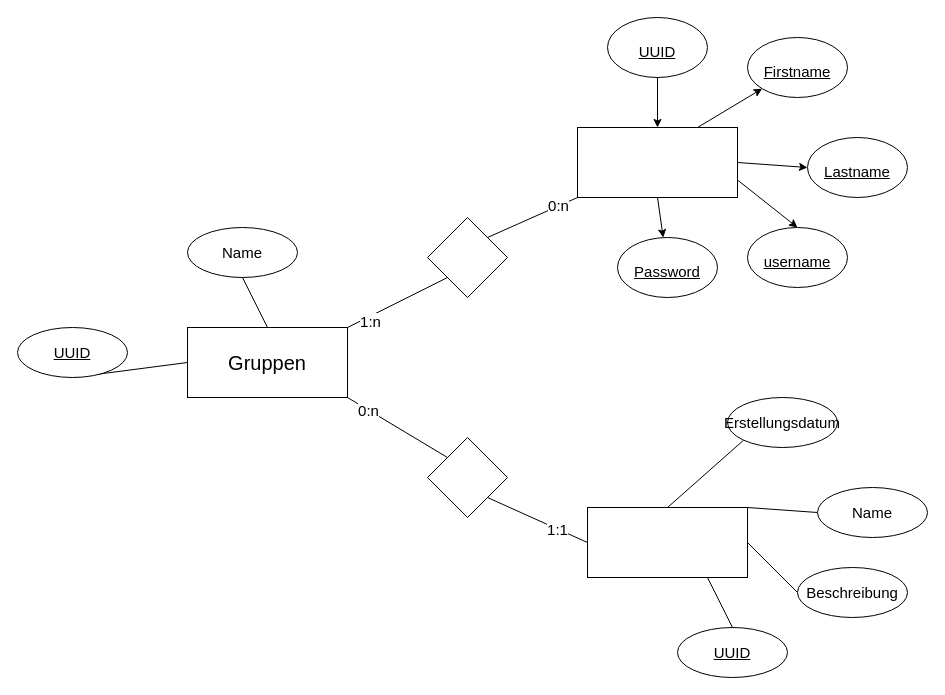
Some shapes in this 945 by 695 pixel diagram are drawn without their labels. Each missing label, with the centre of its shape:
Benutzer: the point at 657,162
Karten (Dienste): the point at 667,542
zugeordnet: the point at 467,257
zugewiesen: the point at 467,477
